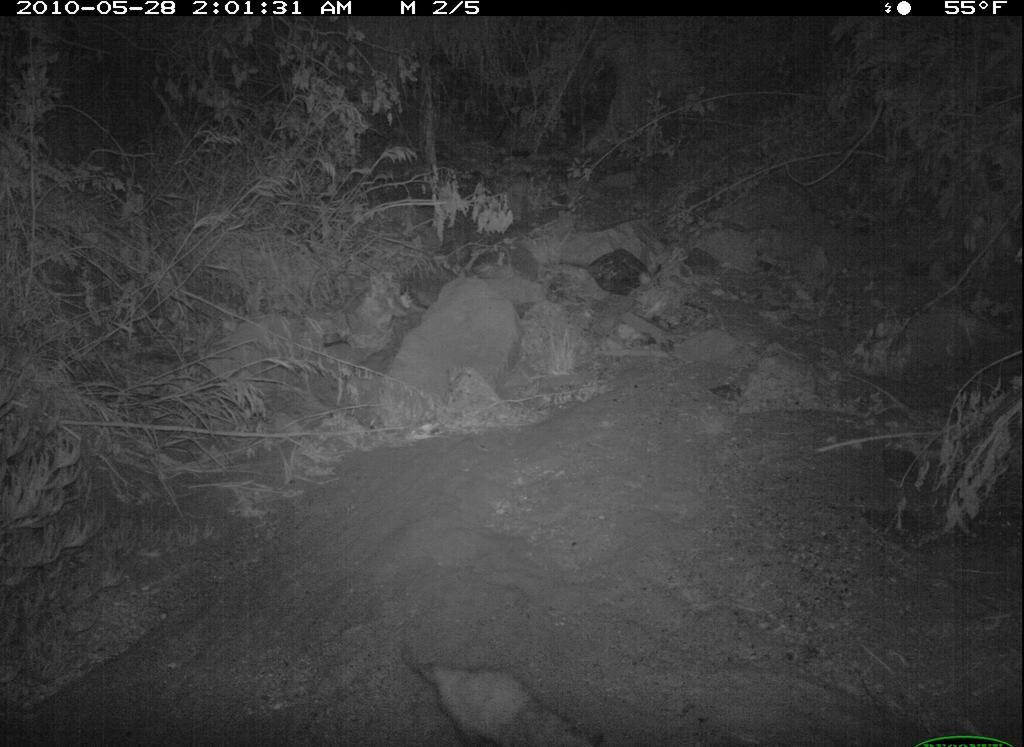opossum: (386, 624, 609, 747)
